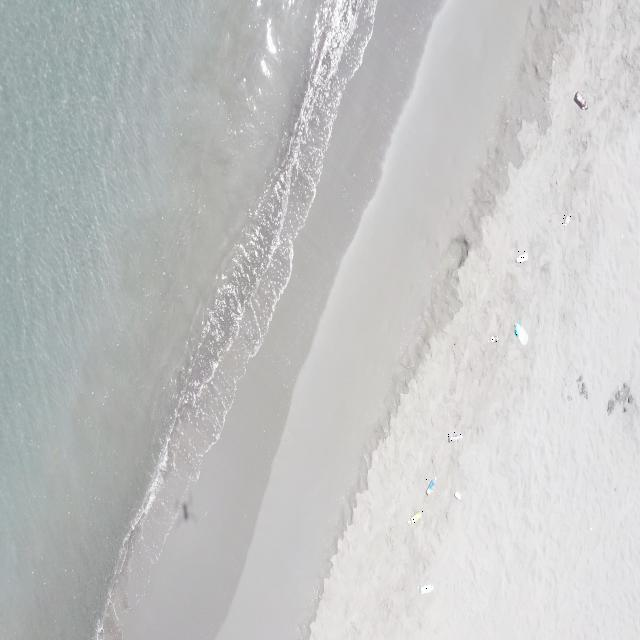Garbage: (513, 323, 527, 344), (574, 92, 587, 108), (409, 511, 423, 523), (447, 431, 462, 442), (516, 249, 527, 263), (427, 476, 435, 495), (562, 212, 571, 224), (420, 584, 432, 592), (453, 491, 460, 500), (489, 335, 496, 342)
